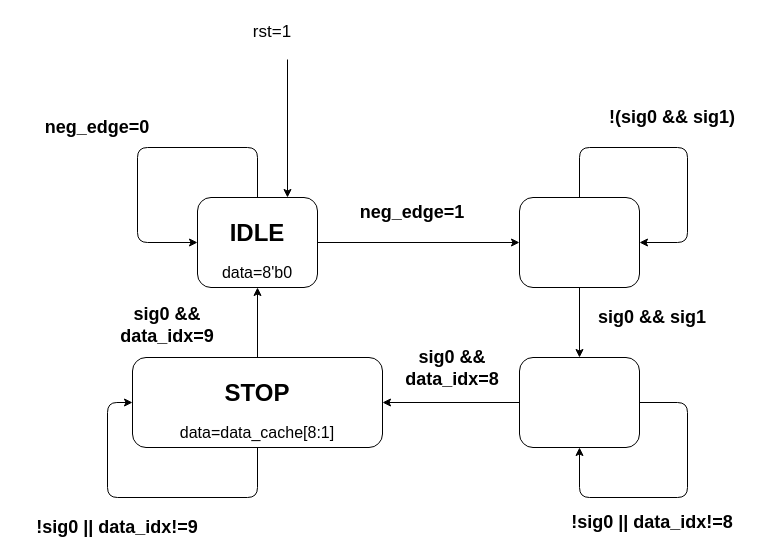
This 774x559 diagram has some shape labels left out. The shapes that lost their labels are listed below. From the top down, each one's centre as x and y in pixels, then its label:
At [579,242]: "START data=8'd0".
At [579,402]: "DATA data=8'b0".
